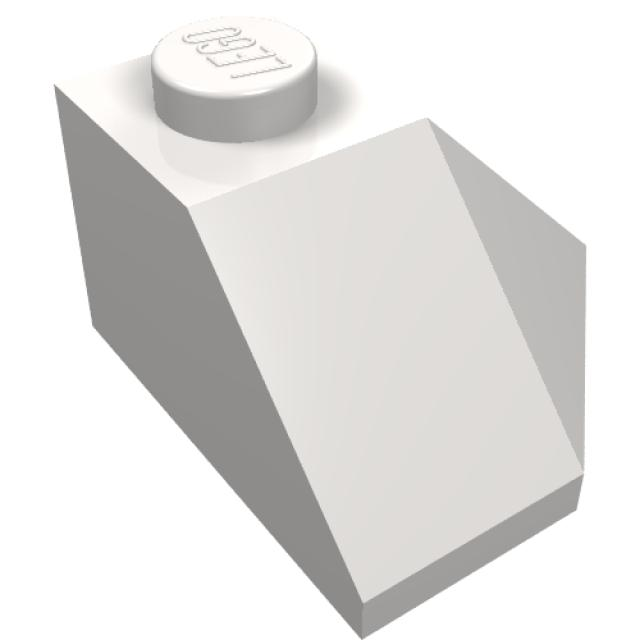White_Small: (55, 15, 588, 640)
